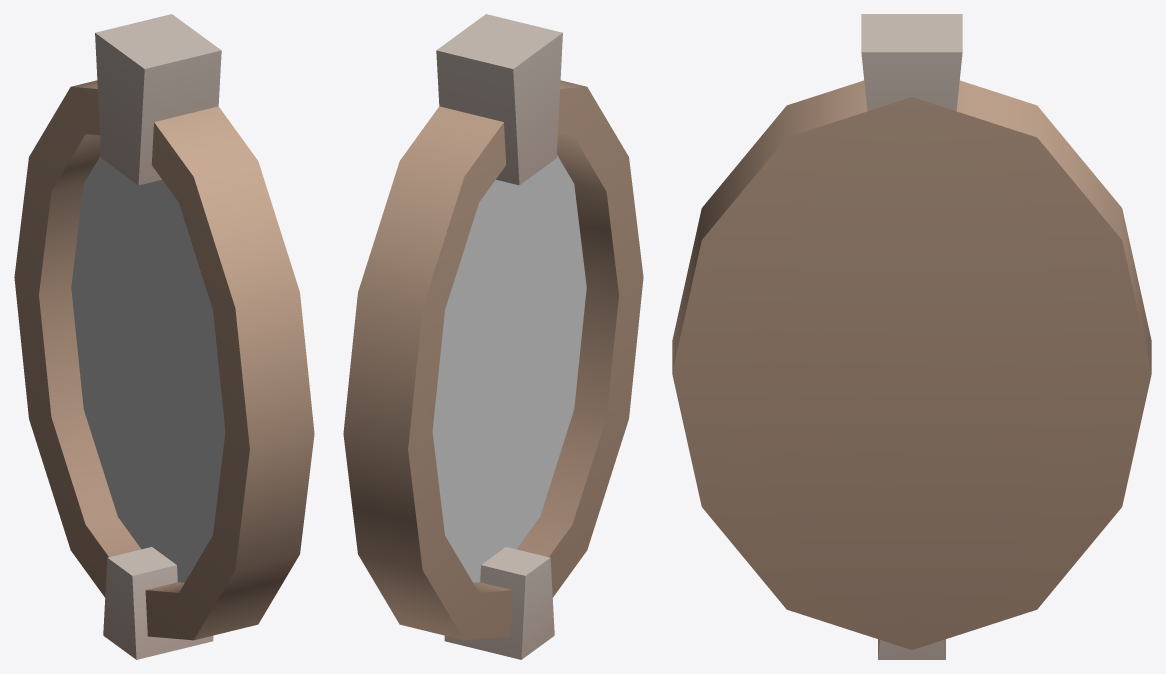
The model's file is art-frame-thin-oval-portrait-ornate (%wall).glb.
The picture shows the model from 3 angles, left to right: view 1: azimuth 30°, elevation 25°; view 2: azimuth 150°, elevation 25°; view 3: azimuth 270°, elevation 25°; orthographic projection.
Visible parts, largest first — view 1: art-frame-thin-oval-portrait-ornate (%wall); view 2: art-frame-thin-oval-portrait-ornate (%wall); view 3: art-frame-thin-oval-portrait-ornate (%wall).
Boxes of the visible parts, left/top/right/bottom form: art-frame-thin-oval-portrait-ornate (%wall): left=14, top=14, right=314, bottom=659; art-frame-thin-oval-portrait-ornate (%wall): left=343, top=14, right=643, bottom=659; art-frame-thin-oval-portrait-ornate (%wall): left=672, top=14, right=1151, bottom=659.
Size of the model in its own units: 0.0893 by 0.6619 by 0.4734.
